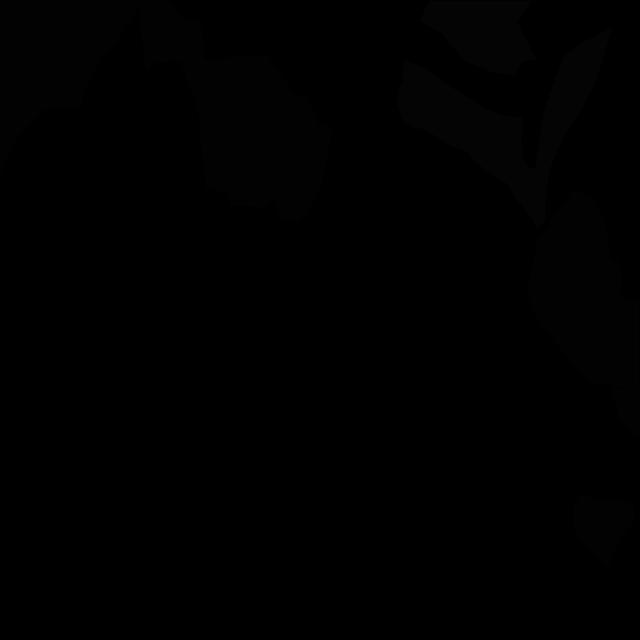cardboard: (0, 0, 204, 177), (194, 54, 333, 225), (526, 189, 639, 389), (572, 493, 636, 568), (610, 387, 640, 444)
soft_plastic: (398, 60, 545, 231), (536, 27, 612, 222), (420, 0, 536, 76)
